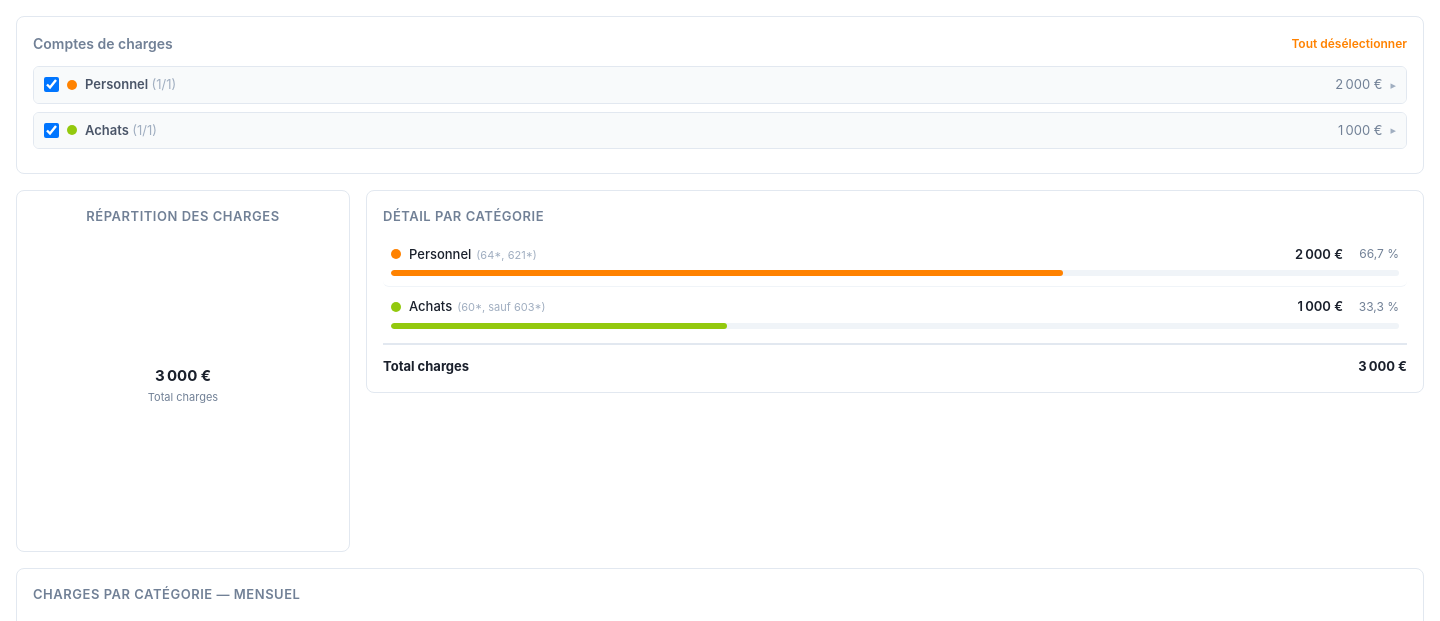
ChargesTab — filtre des comptes › affiche le message d'invite quand aucun compte n'est sélectionné
Click the button "Tout désélectionner": (1349, 44) [1291,34,1407,52]
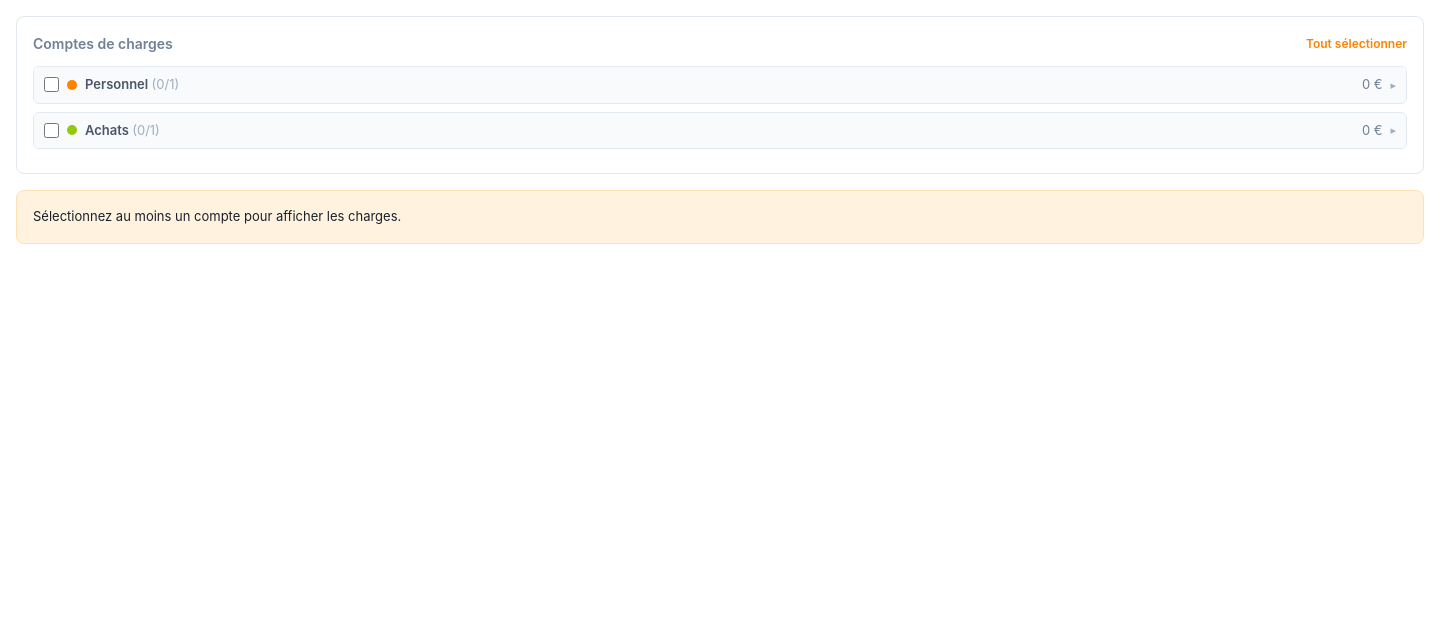
Now the text "Sélectionnez au moins un compte pour afficher les charges." is shown, box [16,190,1424,244]
Now the text "Répartition des charges" is gone
